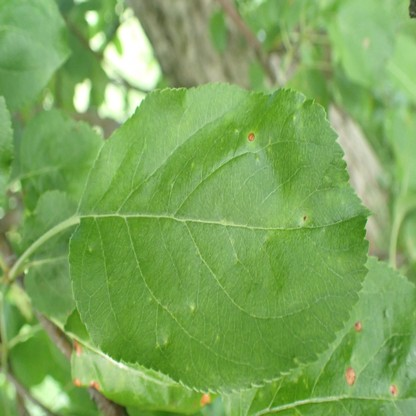frogeye_leaf_spot: (345, 367, 356, 385), (73, 339, 83, 356), (199, 393, 210, 405), (90, 381, 100, 390), (355, 321, 363, 332), (390, 384, 397, 396), (248, 133, 254, 142), (74, 378, 80, 385)
